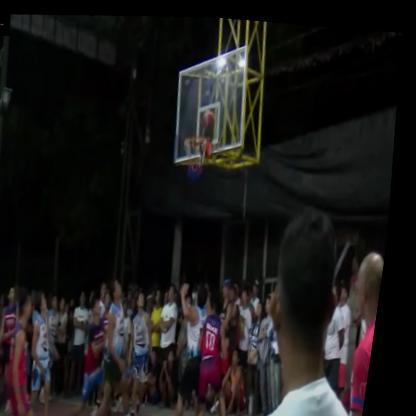basketball: (198, 99, 223, 134)
rim: (180, 124, 221, 184)
